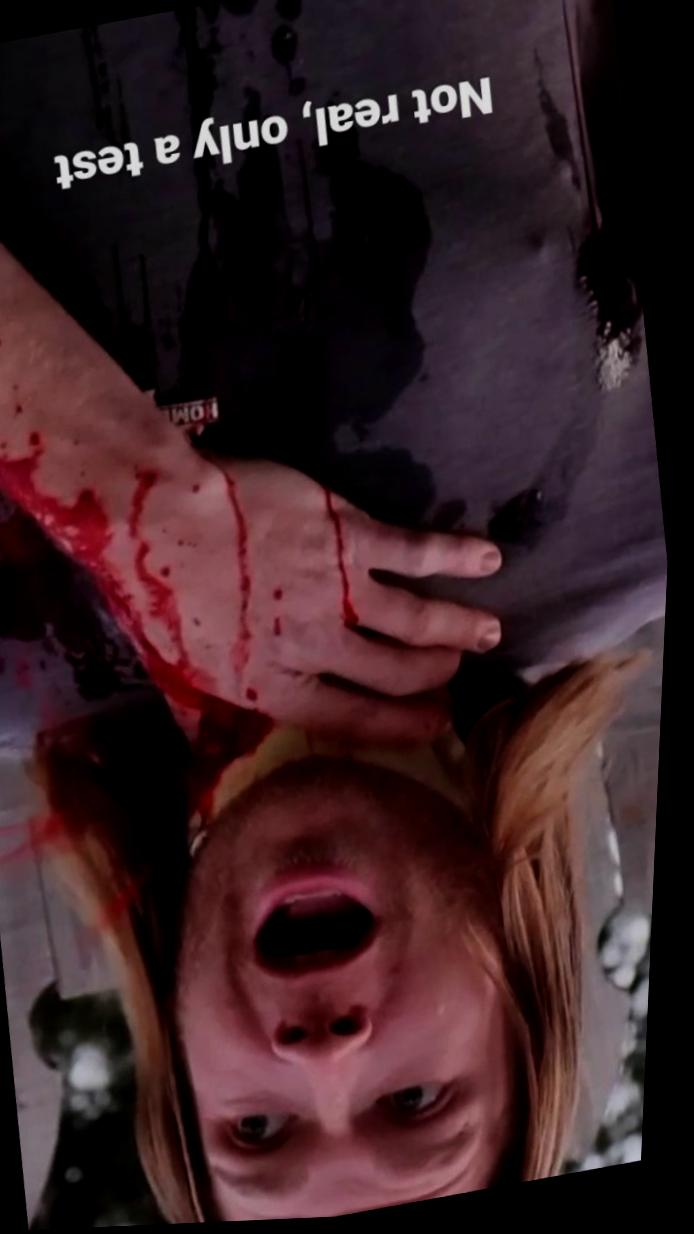Fire: (0, 432, 277, 929), (321, 486, 364, 632)
